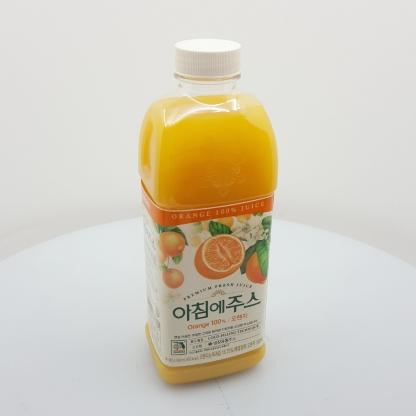----------950ML: (137, 38, 279, 385)
